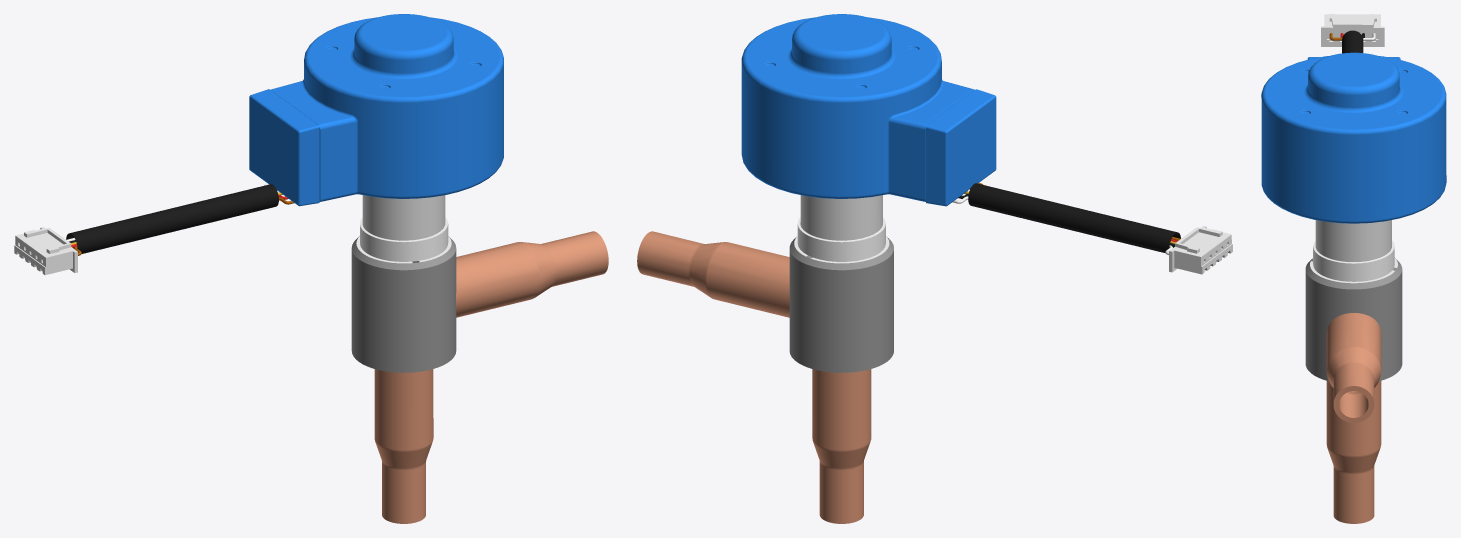
The model's file is EST 8M.glb.
3 views of the same model, side by side, from view 1: azimuth 30°, elevation 25°; view 2: azimuth 150°, elevation 25°; view 3: azimuth 270°, elevation 25° (orthographic). The views are drawn at different scales.
Visible parts, largest first — view 1: Solid1.010; view 2: Solid1.010; view 3: Solid1.010.
Part boxes in pixels (<box>): Solid1.010: <box>14,14,608,523</box>; Solid1.010: <box>637,14,1232,523</box>; Solid1.010: <box>1261,14,1446,523</box>.
Bounding box in the file's own units: 0.1413 × 0.1144 × 0.0431.
